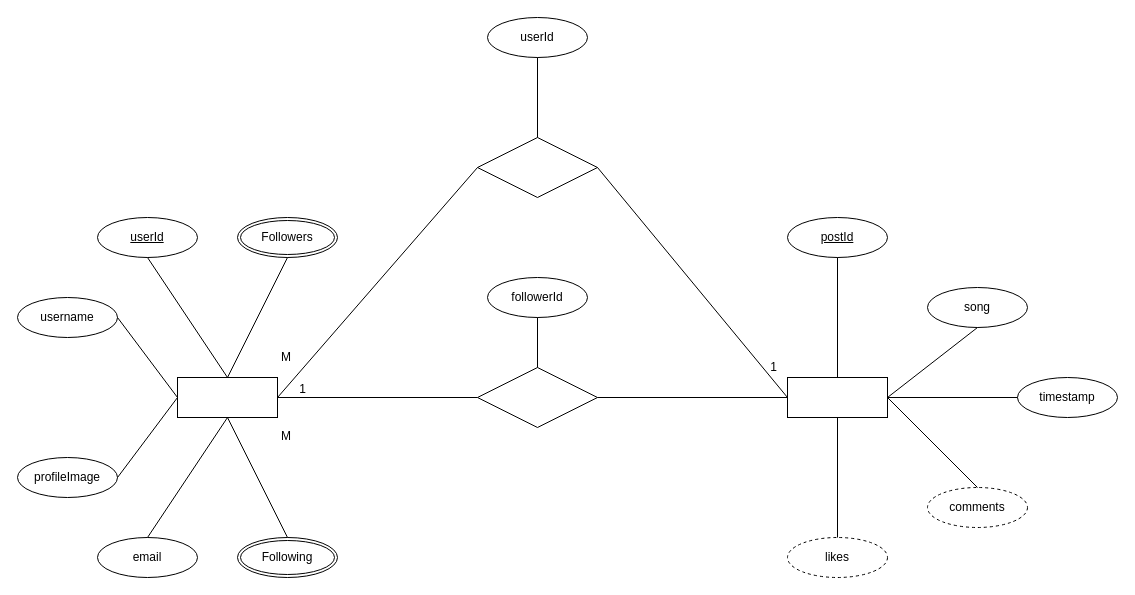
Image size: 1135x595. Some labels were removed from this diagram. Here are the shapes that lost their labels. From the top down, the centre of each, then its label:
At point (537, 167): "Like".
At point (227, 397): "User".
At point (537, 397): "Share".
At point (837, 397): "SongPost".
